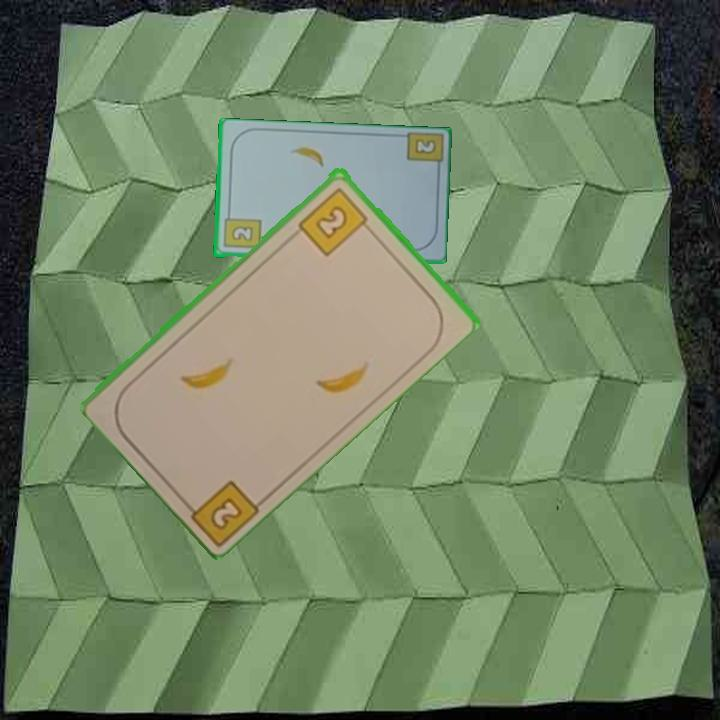2b: (294, 183, 375, 259), (177, 475, 263, 546), (220, 209, 263, 252), (411, 135, 437, 157)
